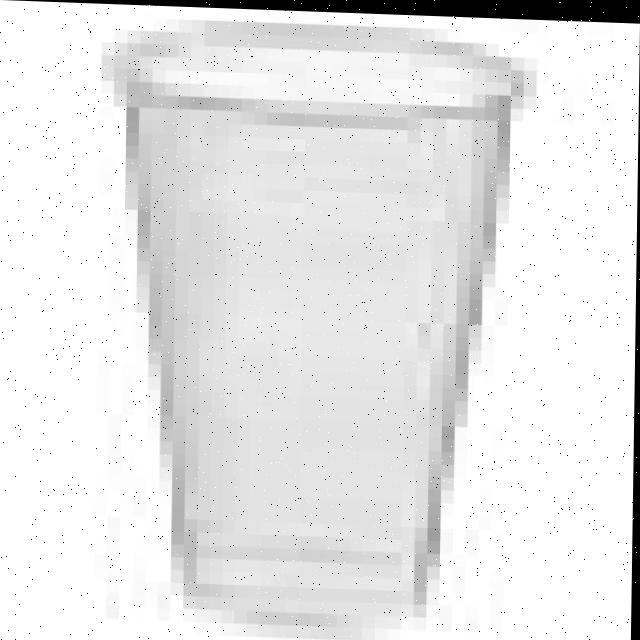cup: (86, 8, 555, 640)
